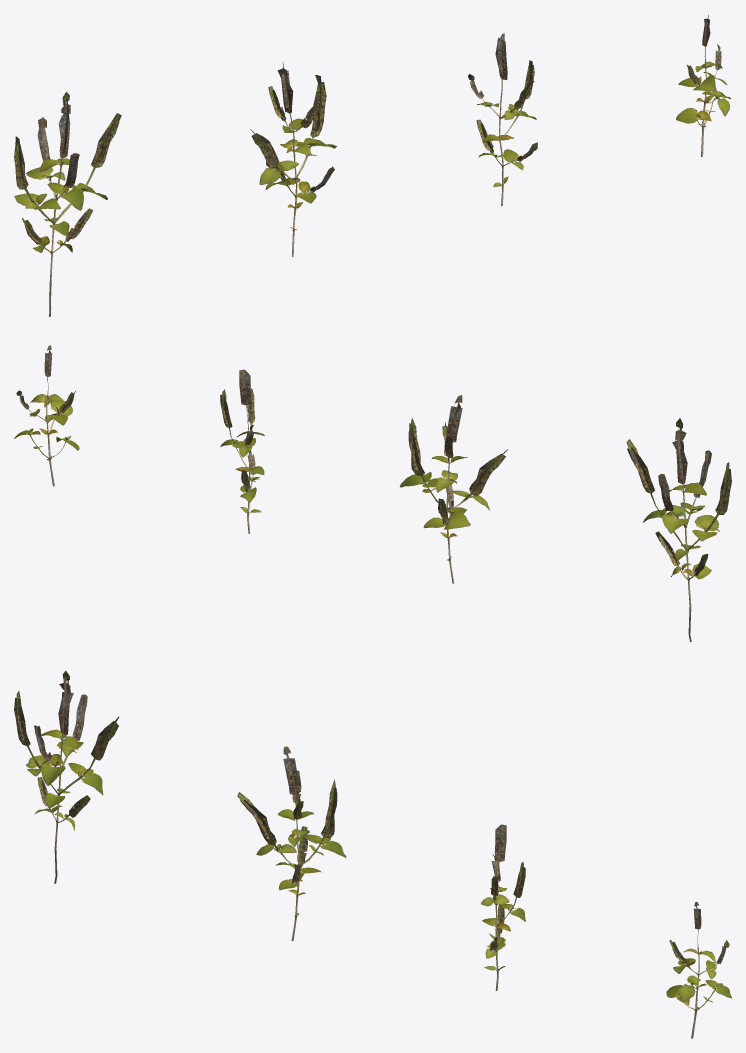
Rendered from shrub_03.glb.
3 views of the same model, one above another, from view 1: azimuth 30°, elevation 25°; view 2: azimuth 150°, elevation 25°; view 3: azimuth 330°, elevation 25° (orthographic). The views are drawn at different scales.
Visible parts, largest first — view 1: shrub_03_a; view 2: shrub_03_a; view 3: shrub_03_a.
Part boxes in pixels (x1,y1,x2,y2): shrub_03_a: (14, 15, 731, 316); shrub_03_a: (14, 345, 731, 641); shrub_03_a: (14, 671, 731, 1038).
Bounding box in the file's own units: 1.37 × 0.4029 × 0.1512.
1 material, 1 textured.
